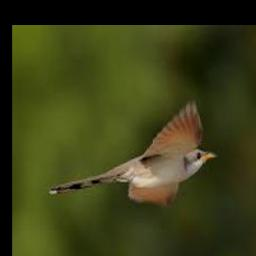Cuckoo: (48, 103, 216, 201)
